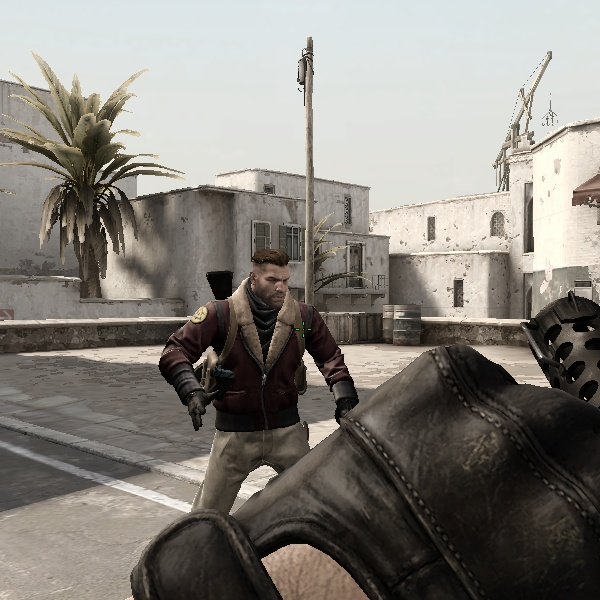t_body: (143, 250, 364, 571)
t_head: (230, 249, 304, 333)
